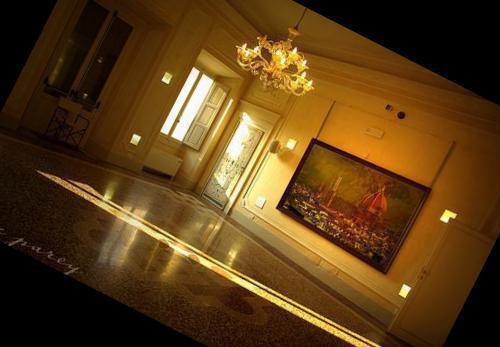Puerta: (24, 0, 150, 149), (392, 217, 495, 347), (198, 110, 271, 212)
